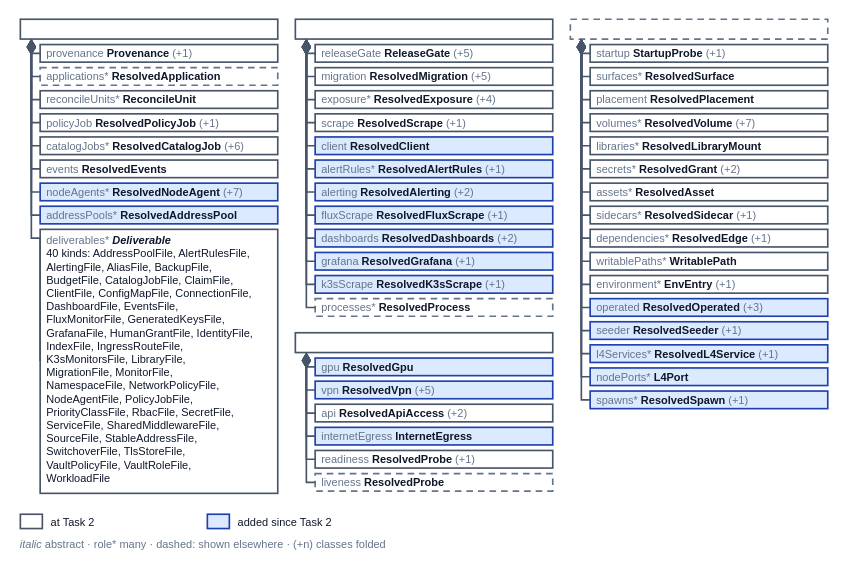
This 848x572 diagram has some shape labels left out. Each missing label, with the box of its shape:
ResolvedApplication: (294, 18, 553, 39)
ResolvedDeployment: (19, 18, 278, 39)
ResolvedProcess: (294, 331, 553, 353)
ResolvedProcess (continued): (569, 18, 828, 39)
